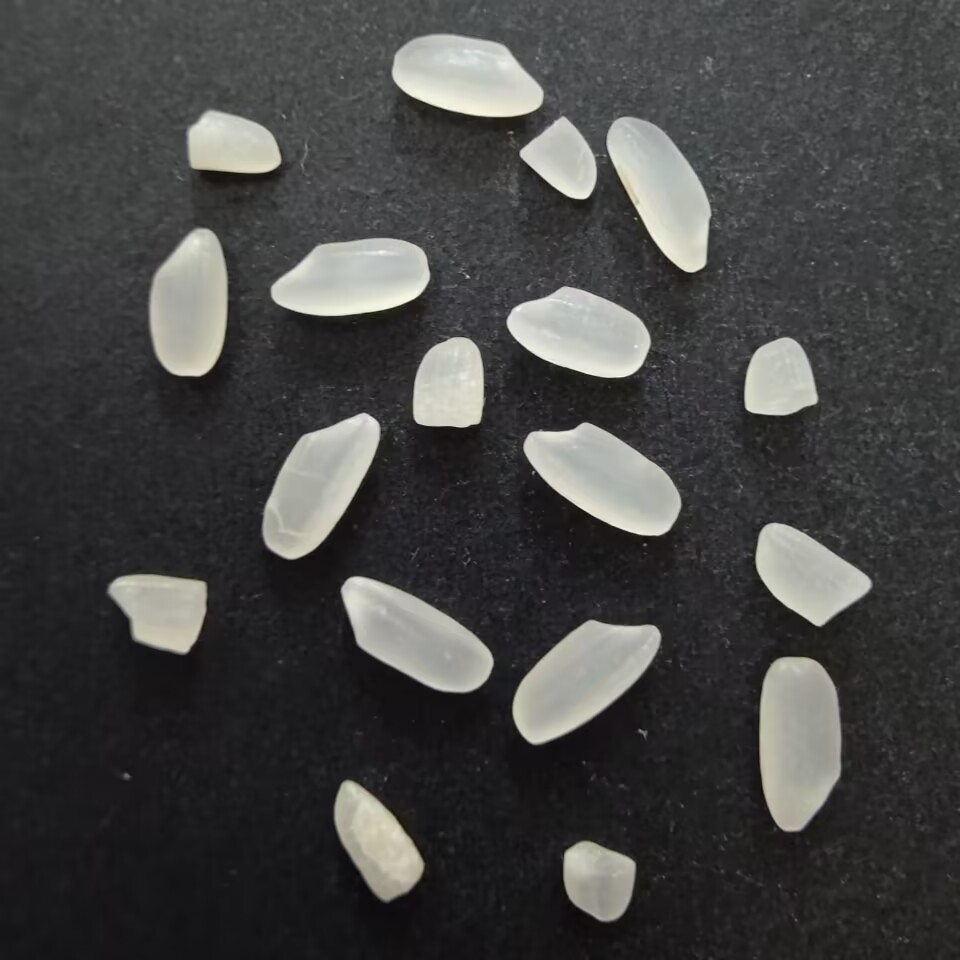broken: (754, 520, 877, 631), (332, 775, 425, 907), (101, 568, 212, 658), (404, 335, 487, 430), (554, 838, 644, 924), (514, 115, 597, 206), (736, 334, 821, 422), (182, 109, 282, 176)
rice: (510, 616, 663, 750), (332, 573, 499, 695), (514, 420, 684, 538), (257, 408, 383, 565), (603, 113, 716, 278), (752, 649, 850, 838), (500, 284, 654, 380), (387, 28, 547, 120), (266, 234, 430, 321), (144, 224, 232, 383)
